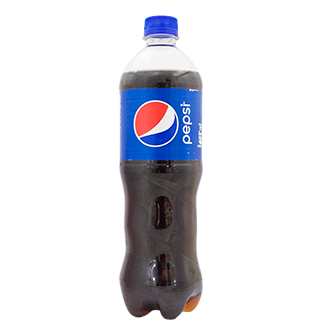pepsi: (133, 99, 176, 145)
